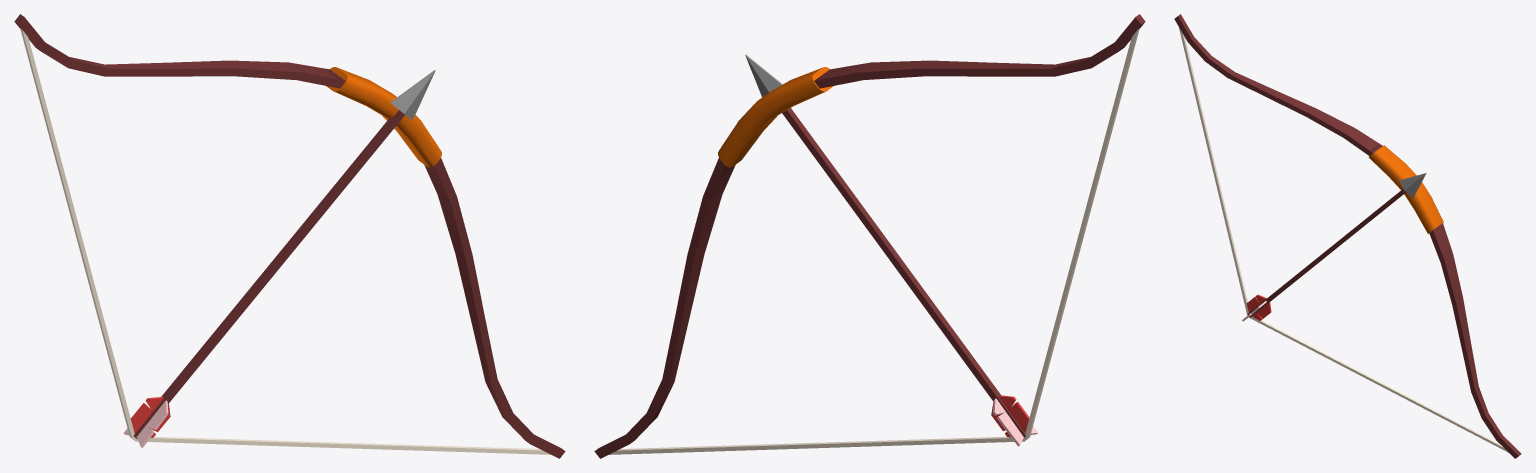
The model's file is bow_and_arrow.gltf.
3 renders of one model, left to right at view 1: azimuth 30°, elevation 25°; view 2: azimuth 150°, elevation 25°; view 3: azimuth 330°, elevation 25°, orthographic. The views are drawn at different scales.
Parts seen in each view (by area): view 1: Plane.343; view 2: Plane.343; view 3: Plane.343.
Boxes of the visible parts, x1=… form: Plane.343: x1=14, y1=14, x2=565, y2=458; Plane.343: x1=594, y1=14, x2=1145, y2=458; Plane.343: x1=1174, y1=14, x2=1521, y2=458.
Size of the model in its own units: 2.14 by 2.14 by 0.1483.
1 material, 1 textured.
